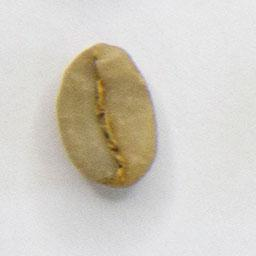longberry: (53, 41, 161, 190)
